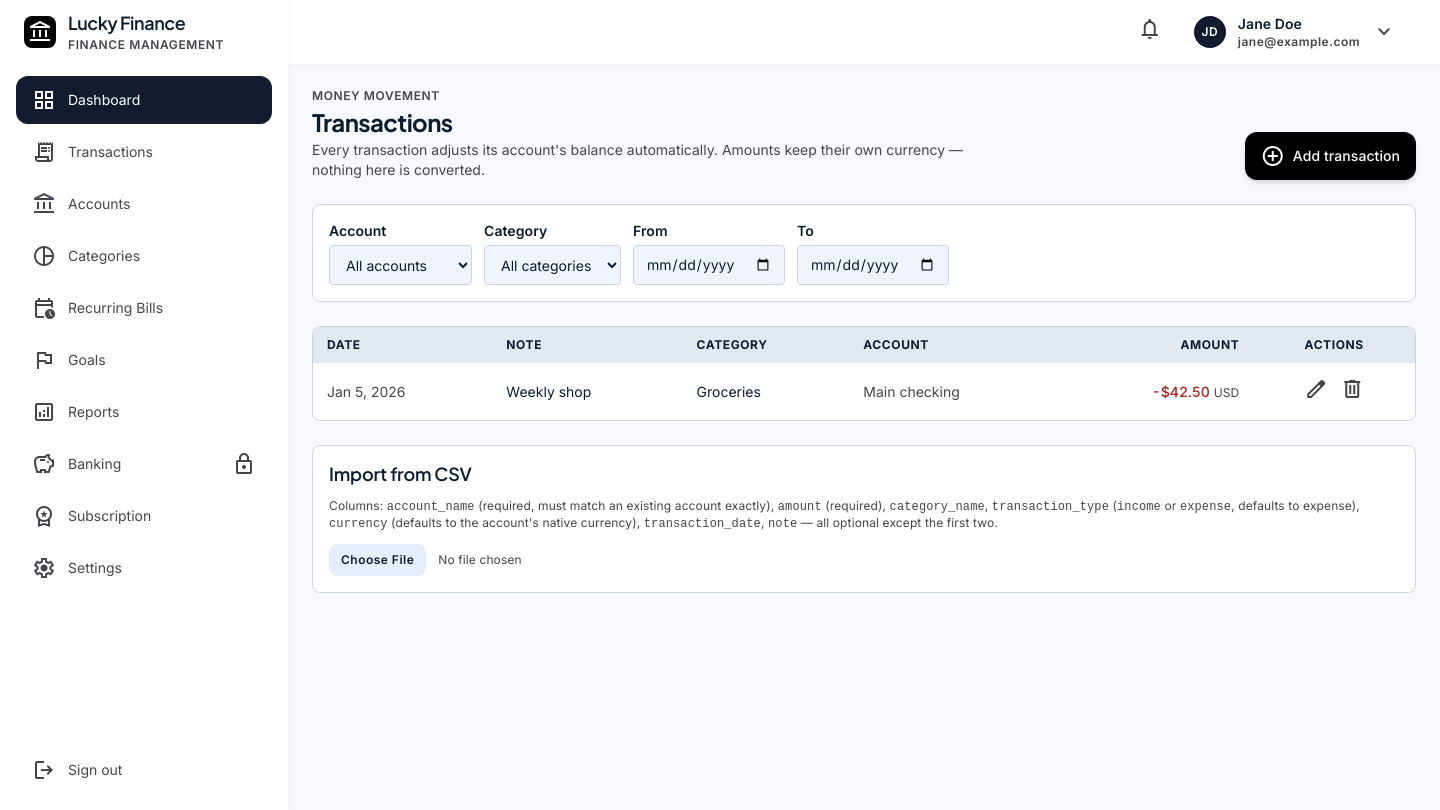
Test: TransactionsPage › deletes a transaction only after explicit confirmation, with the balance-impact warning in the dialog
Check: the text "Weekly shop" is shown, box [492,363,682,420]
Click the button titled "Delete". click: [1352, 392]
box: [1336,373,1368,410]
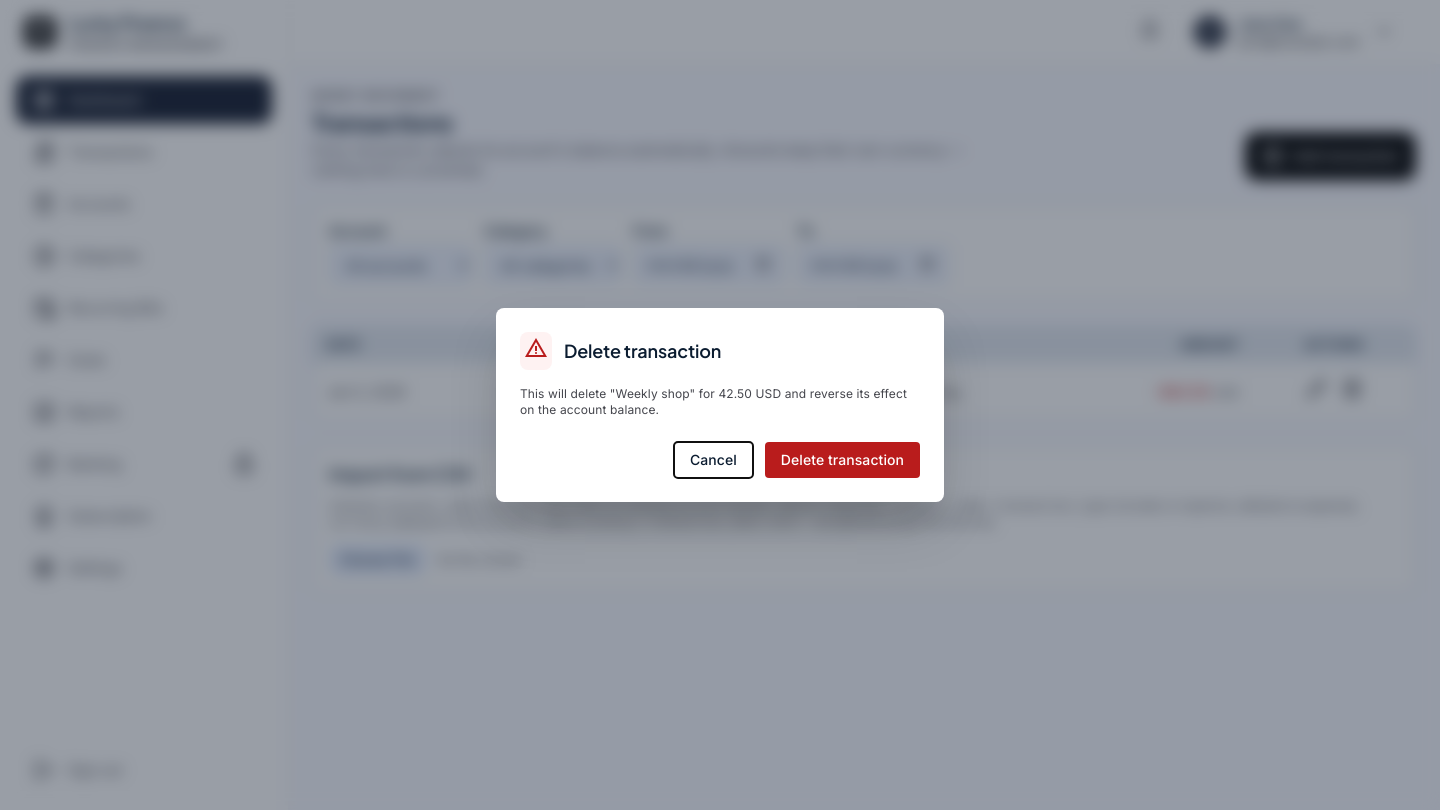
Check: the text "reverse its effect on the account balance" is shown, box [520,386,907,417]
Click the button "Delete transaction". click: [842, 460]
box: [765,442,920,478]
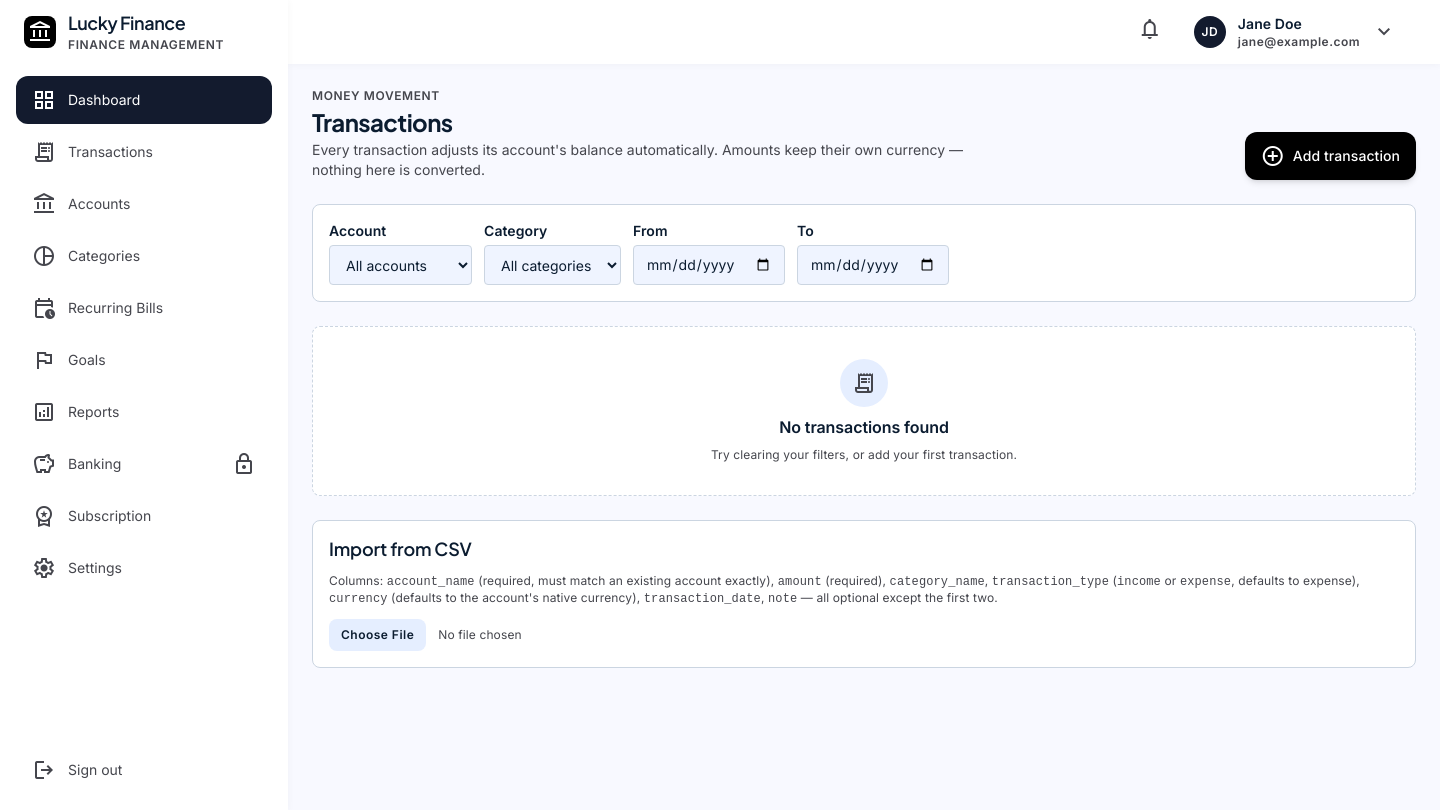
Check: the text "No transactions found" is shown, box [779,415,949,439]
